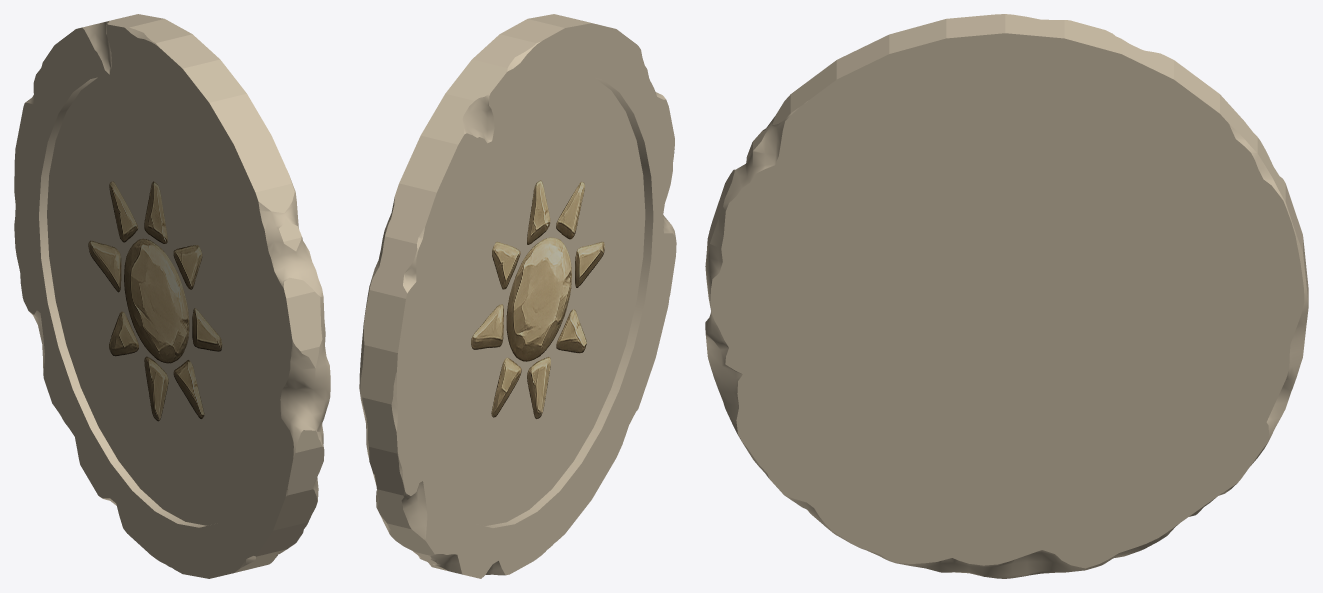
File: Sun.fbx
3 views of the same model, side by side, from view 1: azimuth 30°, elevation 25°; view 2: azimuth 150°, elevation 25°; view 3: azimuth 270°, elevation 25° (orthographic). The views are drawn at different scales.
Parts seen in each view (by area): view 1: Cylinder.008_dmg.001; view 2: Cylinder.008_dmg.001; view 3: Cylinder.008_dmg.001.
Part boxes in pixels (x1,y1,x2,y2): Cylinder.008_dmg.001: (14,14,330,578); Cylinder.008_dmg.001: (359,14,676,578); Cylinder.008_dmg.001: (705,14,1308,578).
Bounding box in the file's own units: 8.69 × 113 × 113.
Materials: 2 (1 with a texture image).
